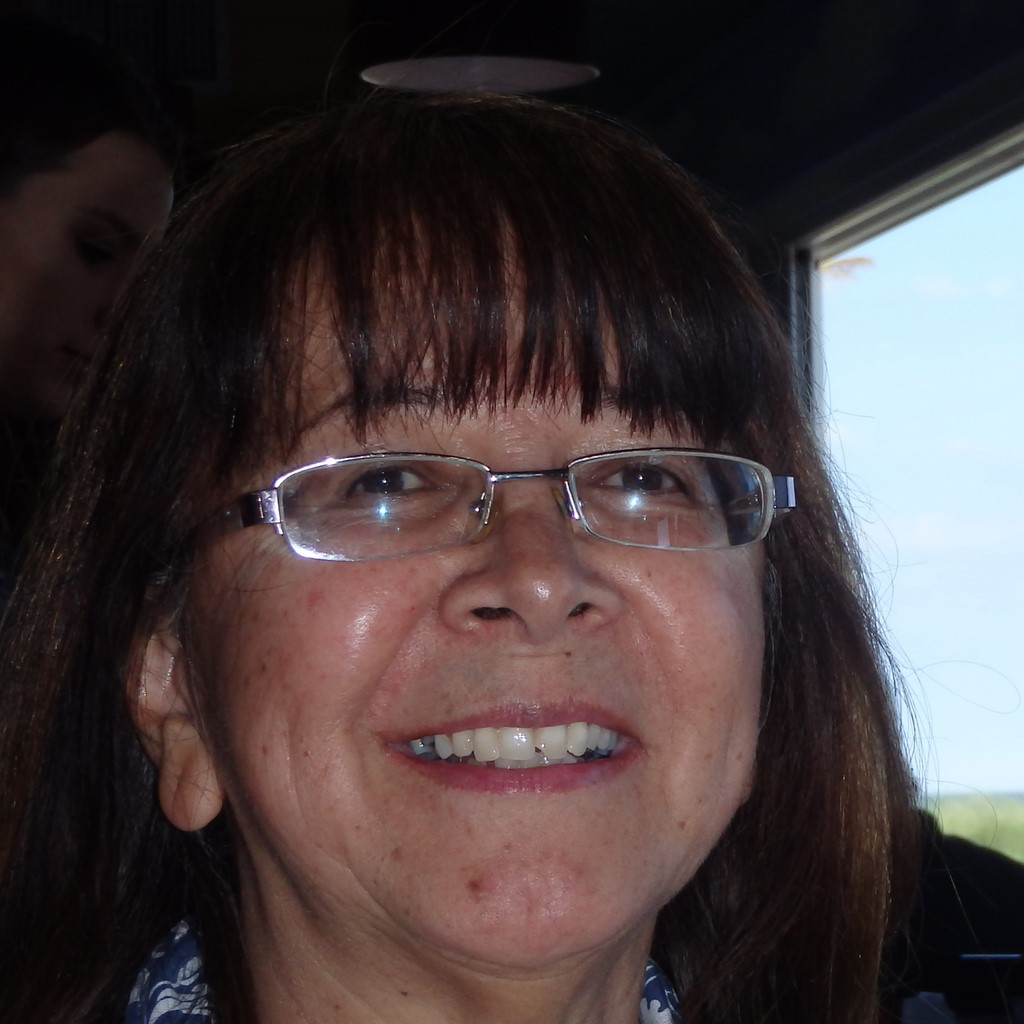sin_mascara: (221, 208, 771, 984)
